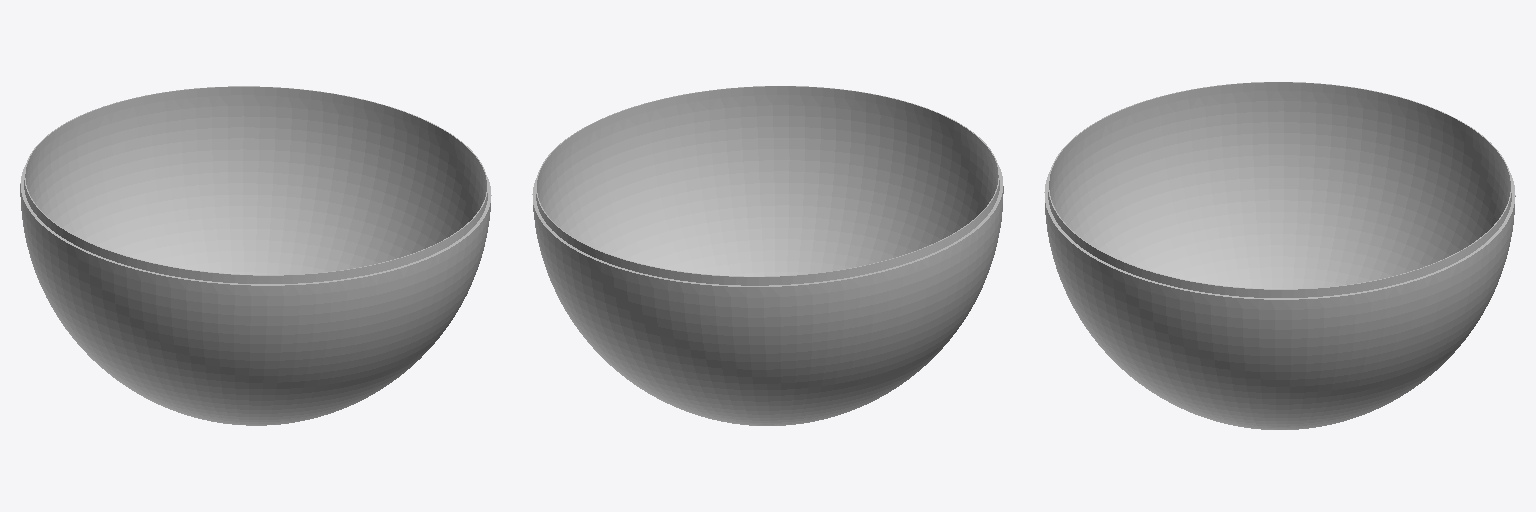
URDF robot description (lower_hemisphere):
<?xml version="1.0"?>
<!-- created with Phobos 1.0.1 "Capricious Choutengan" -->
  <robot name="lower_hemisphere">

    <link name="lower_hemisphere">
      <inertial>
        <origin xyz="0 0 -0.105" rpy="0 0 0"/>
        <mass value="0.2"/>
        <inertia ixx="0.16328" ixy="0.00117" ixz="0" iyy="0.16328" iyz="0" izz="0.19766"/>
      </inertial>
      <visual name="node2">
        <origin xyz="0 0 -0.21" rpy="1.5708 0 0"/>
        <geometry>
          <mesh filename="../meshes/dae/Part__Feature074.dae" scale="10.0 10.0 10.0"/>
        </geometry>
        <material name="Part__Feature074"/>
      </visual>
      <collision name="node2.000">
        <origin xyz="0 0 -0.21" rpy="1.5708 0 0"/>
        <geometry>
          <mesh filename="../meshes/dae/Part__Feature074.001.dae" scale="1.0 1.0 1.0"/>
        </geometry>
      </collision>
    </link>

    <material name="Part__Feature074">
      <color rgba="0.8 0.8 0.8 1.0"/>
    </material>

  </robot>

--- Facts derived from the render (not from the file) ---
Views: 3 orthographic renders of the robot side by side, from view 1: azimuth 30°, elevation 25°; view 2: azimuth 150°, elevation 25°; view 3: azimuth 270°, elevation 25°.
Model lower_hemisphere with 1 links and 0 joints (none), rooted at lower_hemisphere, posed all joints at 0.
Visible links, largest first — view 1: lower_hemisphere; view 2: lower_hemisphere; view 3: lower_hemisphere.
Boxes of the visible links, <box> form: lower_hemisphere: <box>20,86,491,425</box>; lower_hemisphere: <box>532,86,1003,425</box>; lower_hemisphere: <box>1044,82,1515,429</box>.
Size in the robot's own frame: 5 by 5 by 2.68 metres.
Meshes: 1 distinct files referenced, 1 mesh visuals loaded (1 Collada DAE).